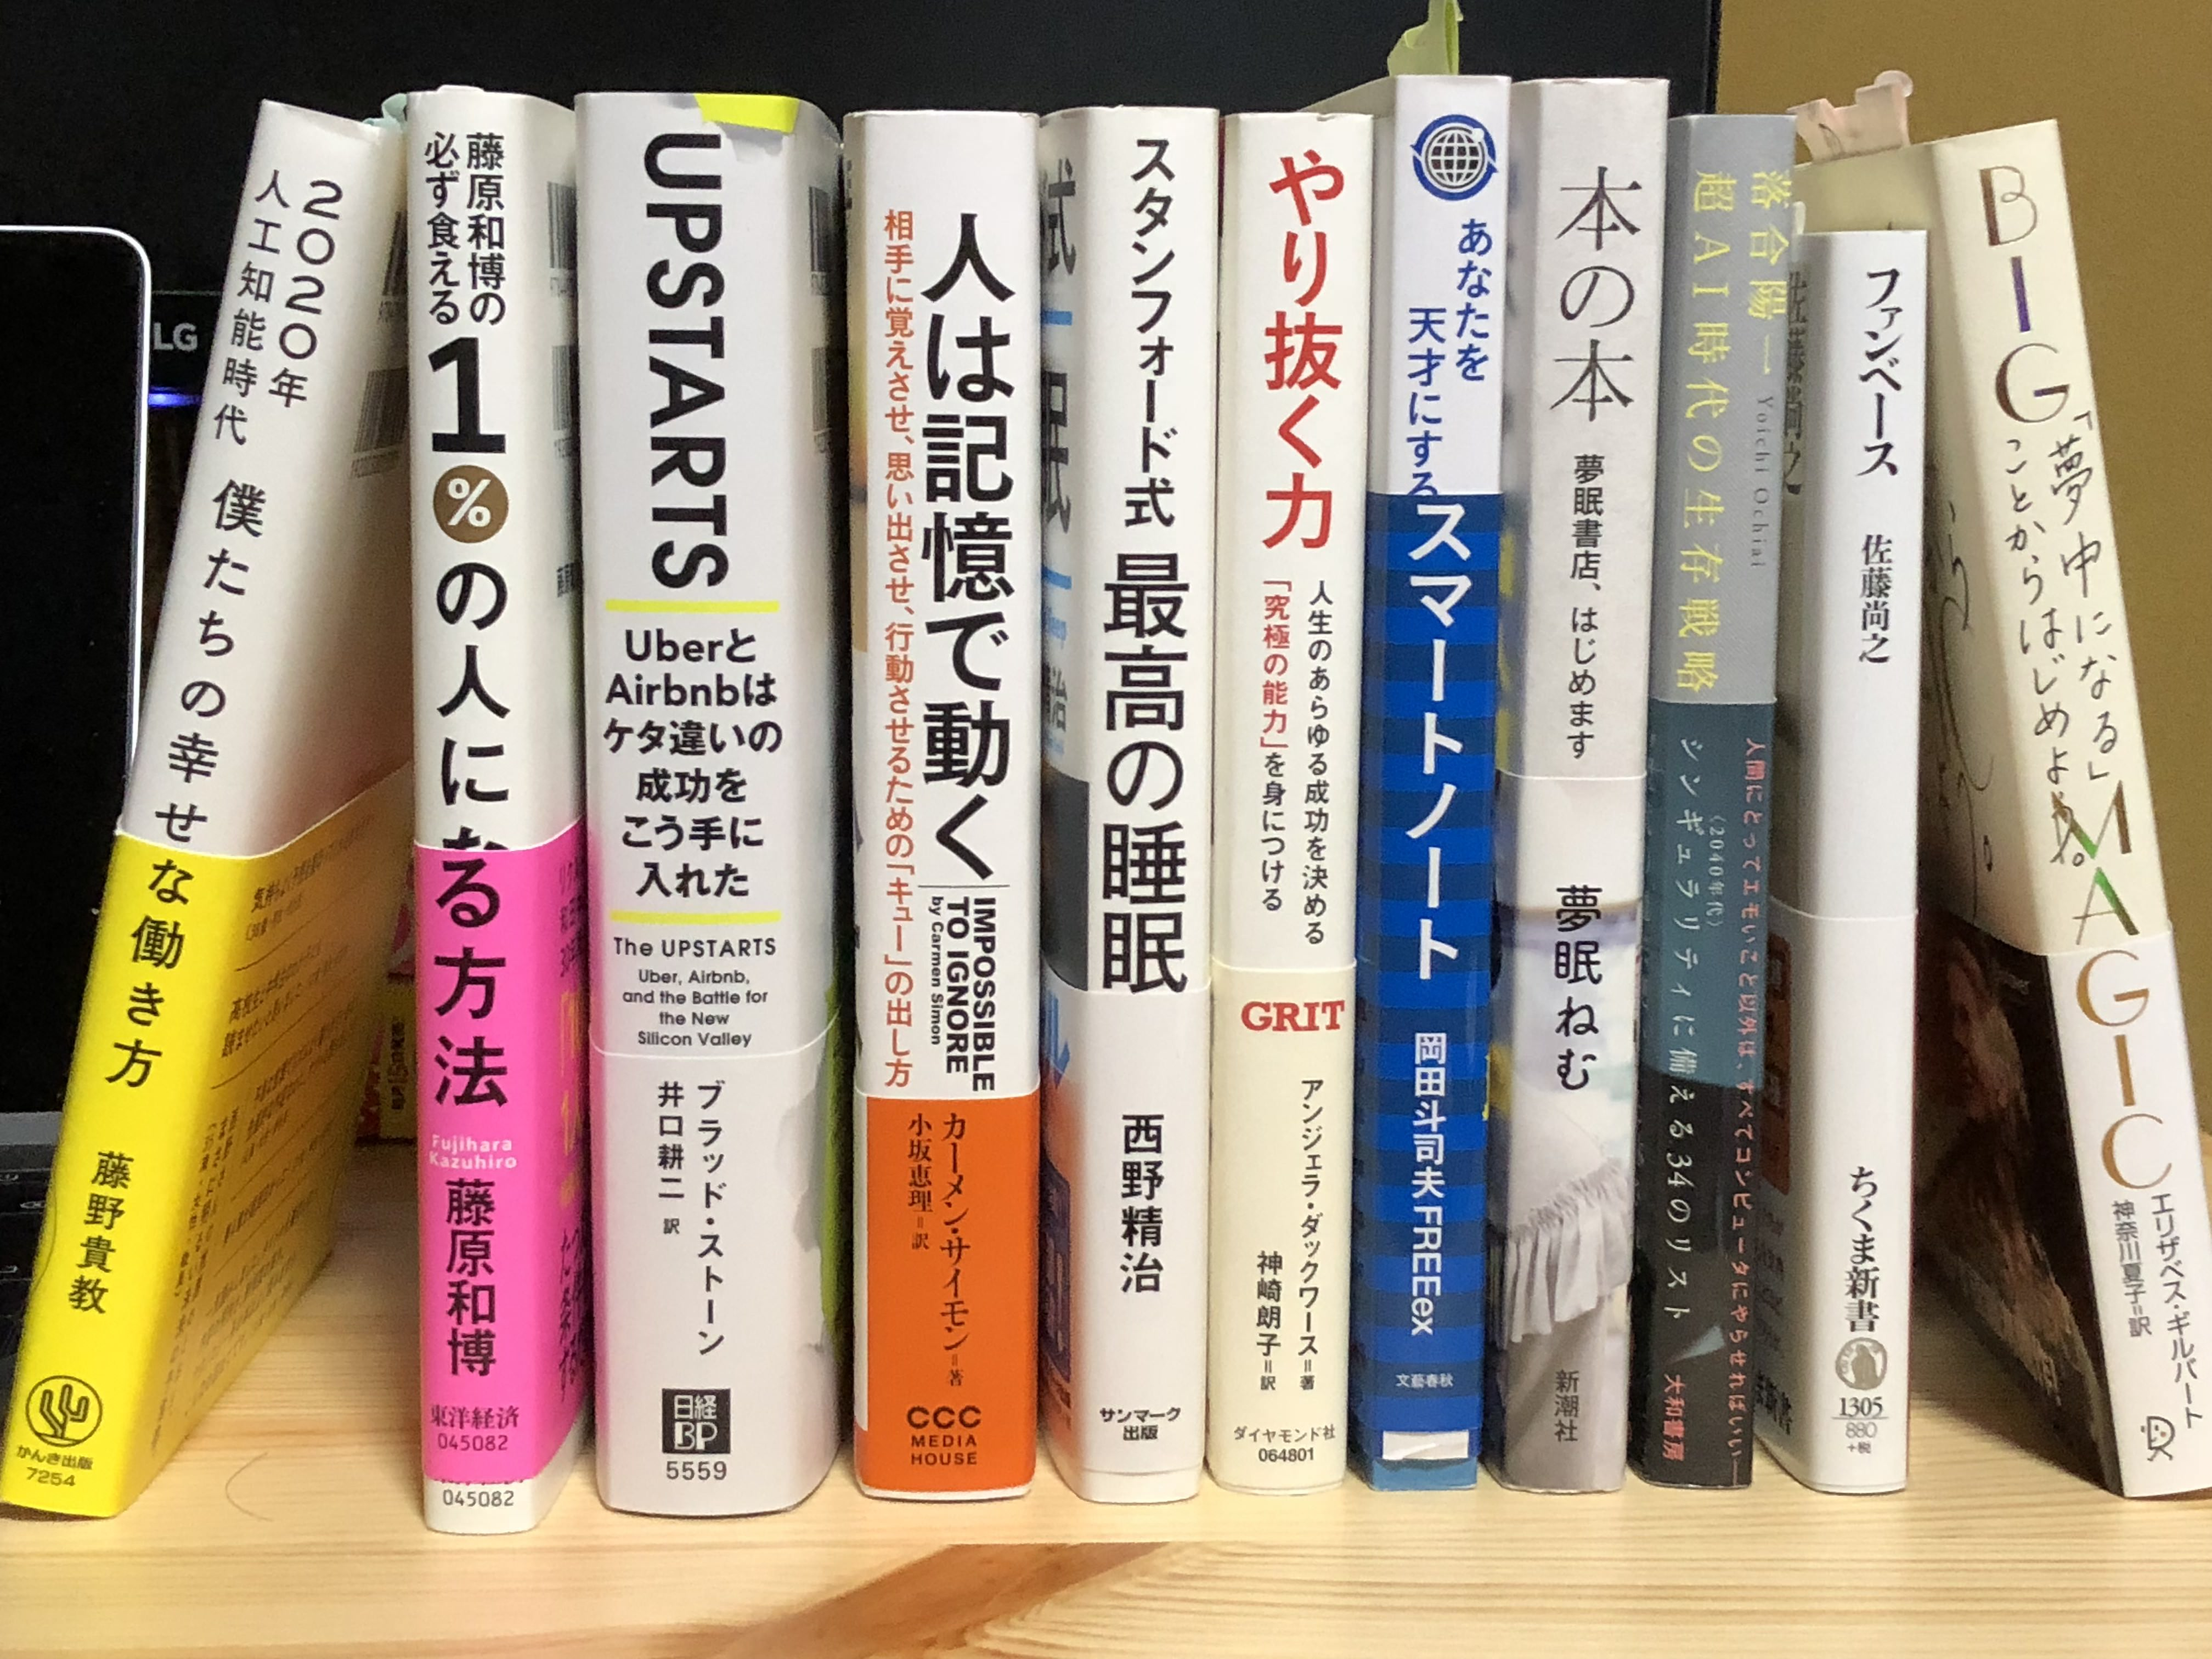book: (566, 82, 819, 1527), (834, 96, 1042, 1506), (1500, 70, 1669, 1499), (397, 82, 550, 1539), (1066, 91, 1219, 1525), (1221, 92, 1376, 1497), (1359, 61, 1507, 1511), (1642, 92, 1794, 1492), (1801, 232, 1930, 1500)
